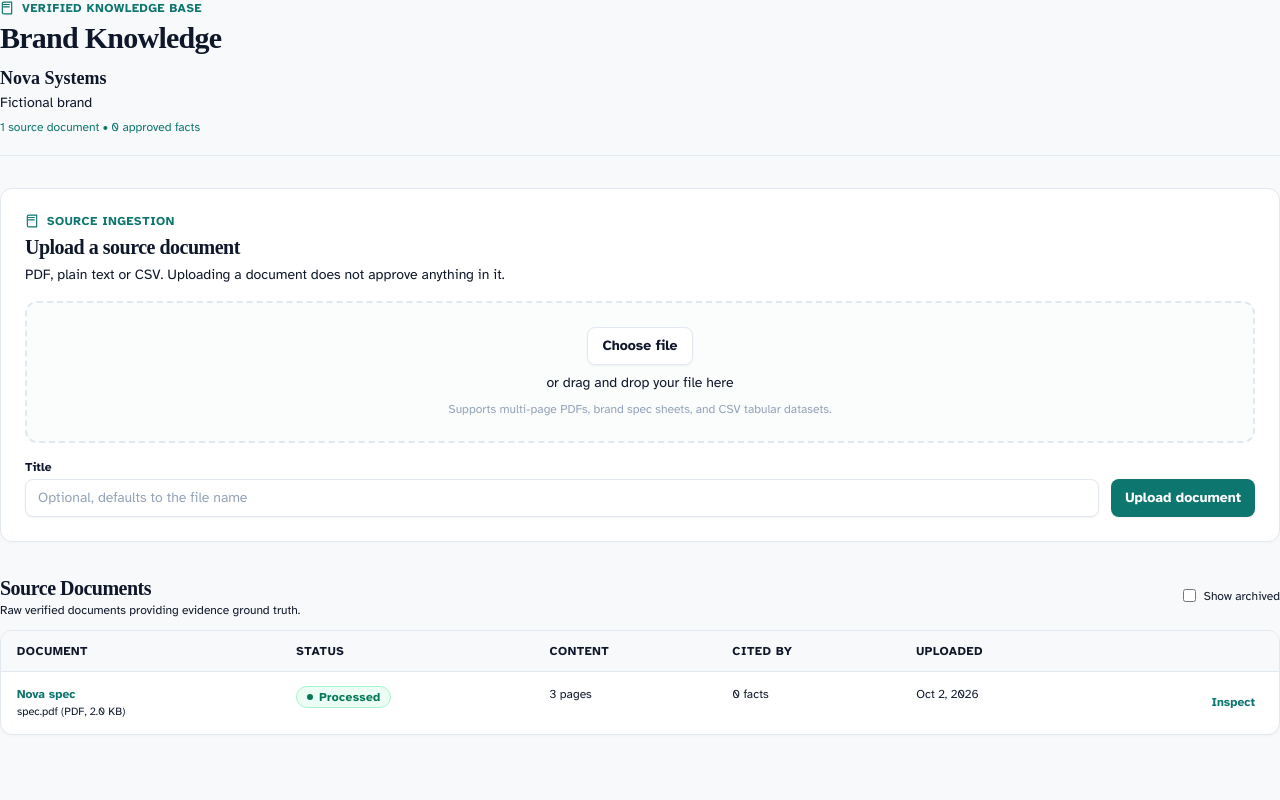
Test: Brand Knowledge page › opens a document and shows its extracted text
Click the button with aria-label "Inspect Nova spec".
click(1233, 702)  # box [1204, 686, 1263, 718]
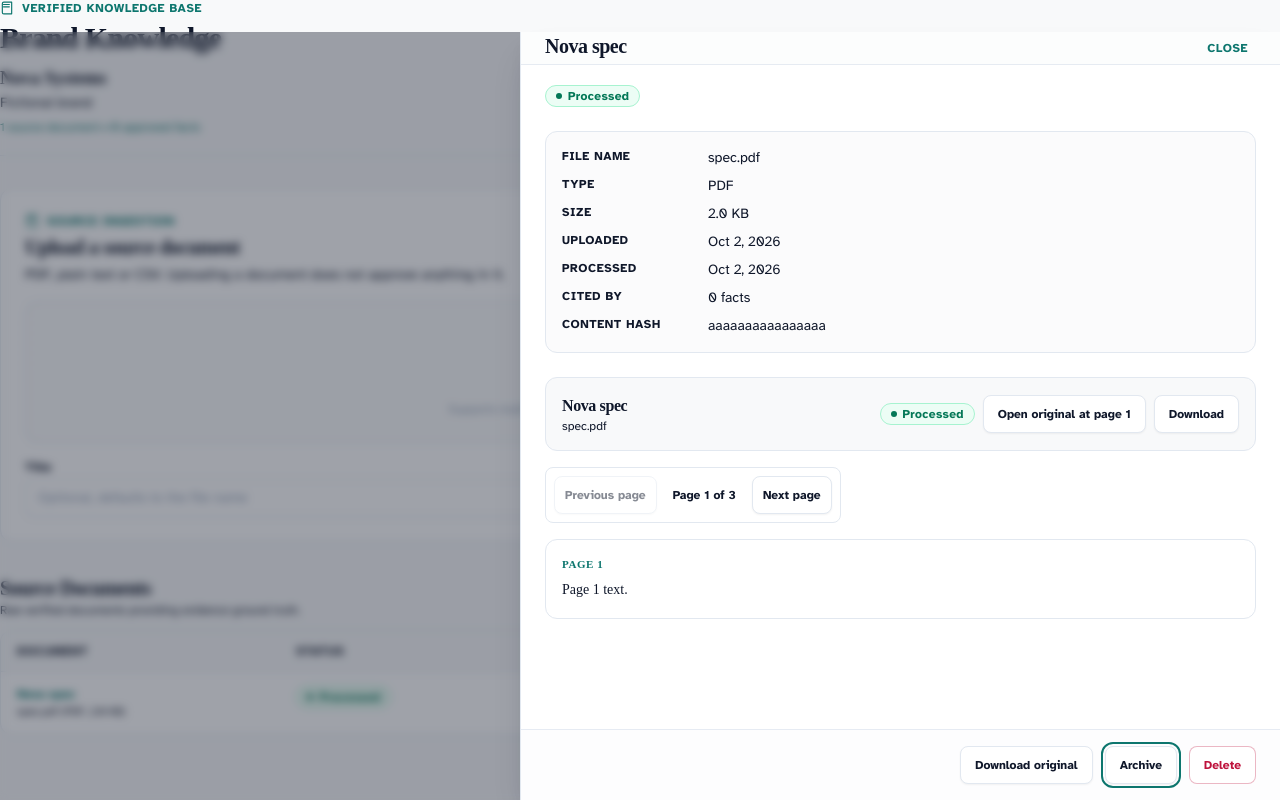
Check: the text "Page 1 text." is shown, box [562, 582, 628, 597]
Check: the text "Page 1 of 3" is shown, box [669, 487, 740, 503]
